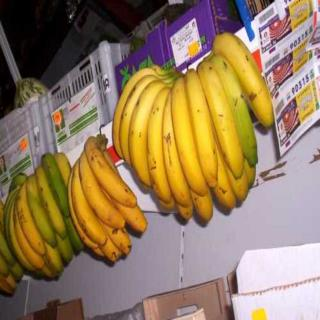Banana: (0, 29, 276, 296)
